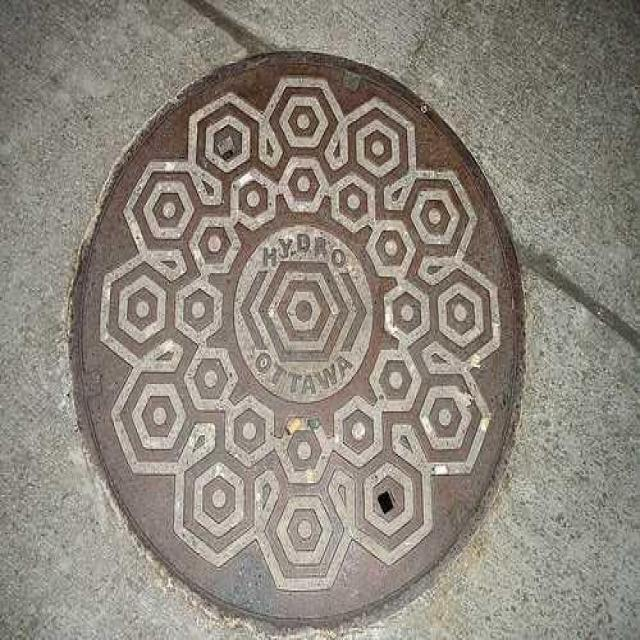manhole: (71, 52, 522, 622)
